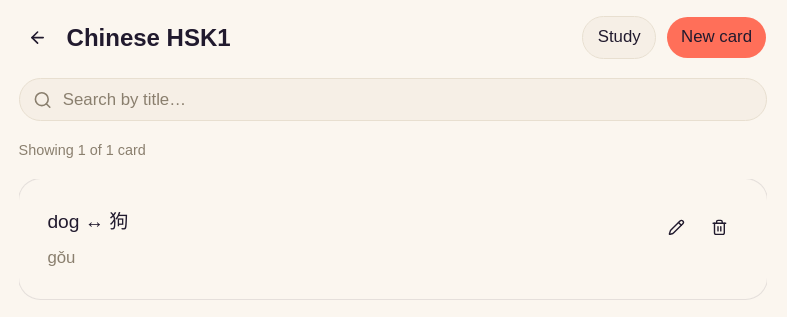
Test: CardsPage › shows a filtered empty state distinct from a truly empty deck
expect the text "dog ↔ 狗" is shown: met, box [47,211,128,232]
Step 1. Type "nonexistent" into the field with placeholder "Search by title…" → (393, 100), box [19,78,767,121]
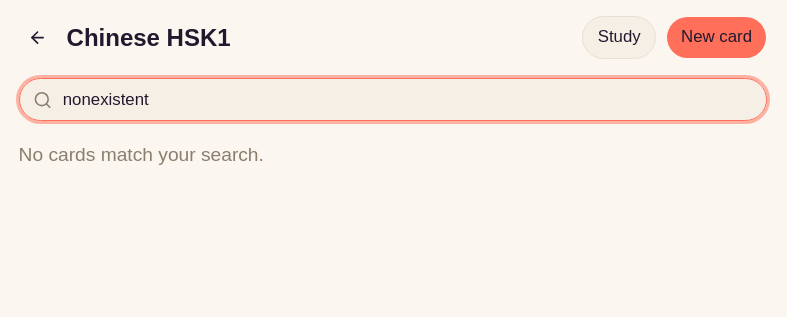
expect the text "No cards match your search." is shown: met, box [19,144,264,164]
